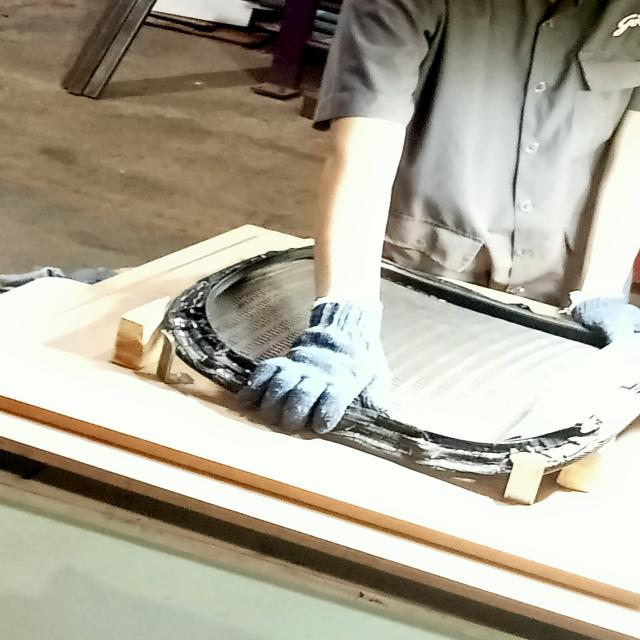Gloves-Detection: (243, 298, 377, 428)
